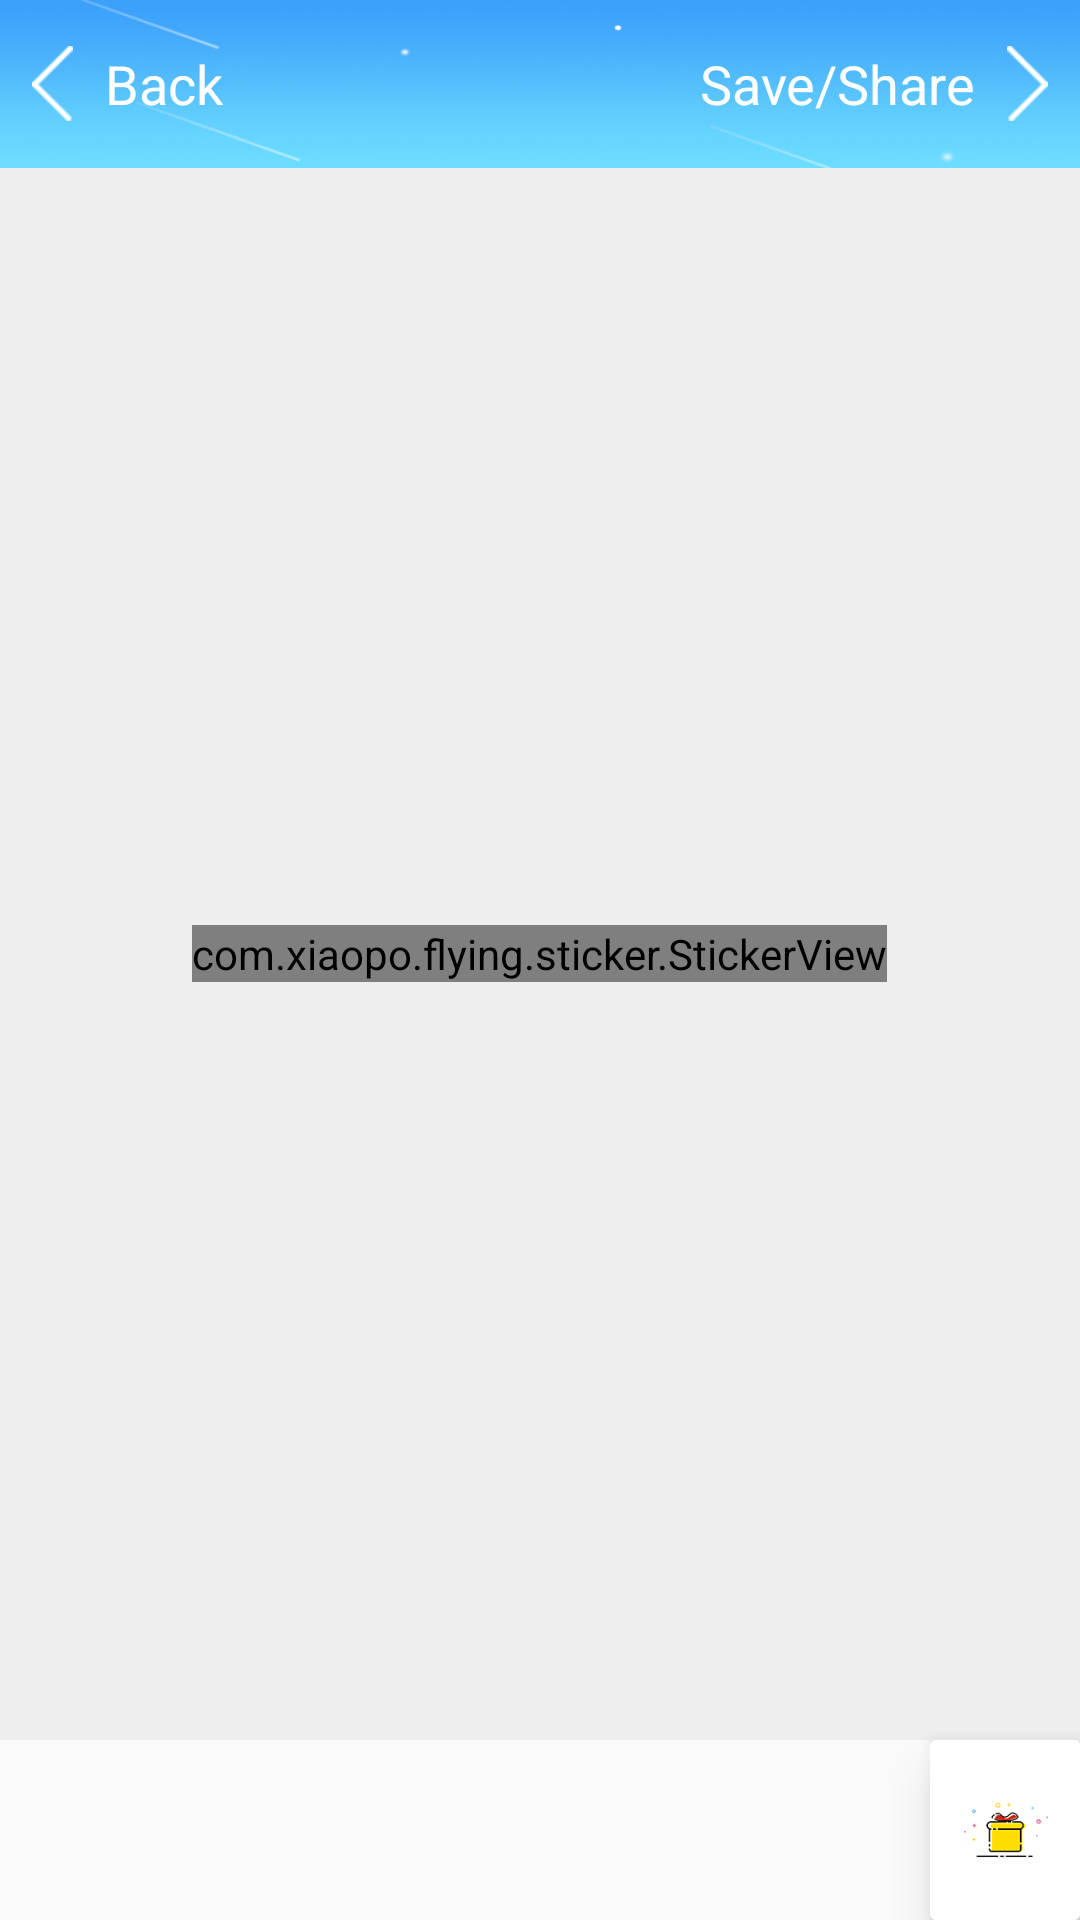

Screen size 1080x1920. Icon name, then its box in pixels as {"left": x1, "top": y1, "right": x2, "bottom": y2}:
arrow save: {"left": 1005, "top": 46, "right": 1050, "bottom": 121}
